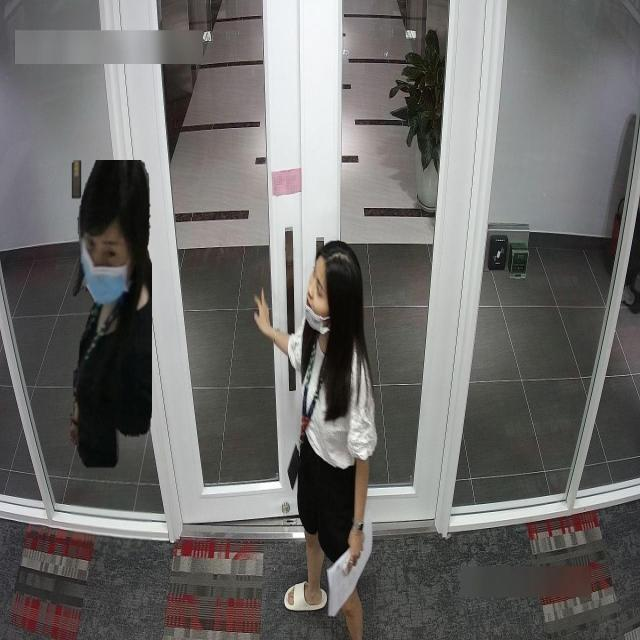hairnet: (301, 236, 339, 336)
